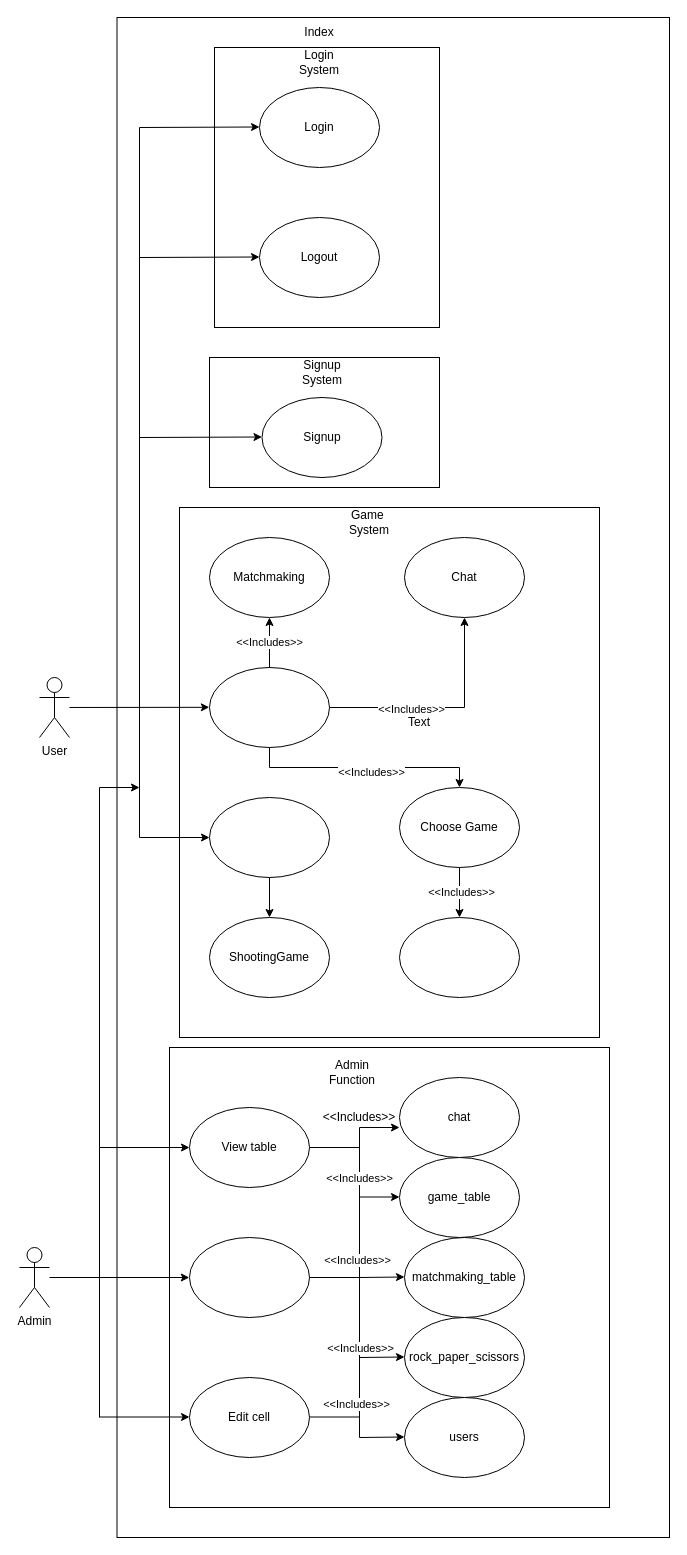
Image size: 687x1555. Some labels were removed from this diagram. Here are the shapes that lost their labels. From the top down, the centre of each, then its label:
At pixel 269 707: "Lobby".
At pixel 269 837: "Single Player Game".
At pixel 459 957: "Rock Paper Scissors".
At pixel 249 1277: "Delete Row".
